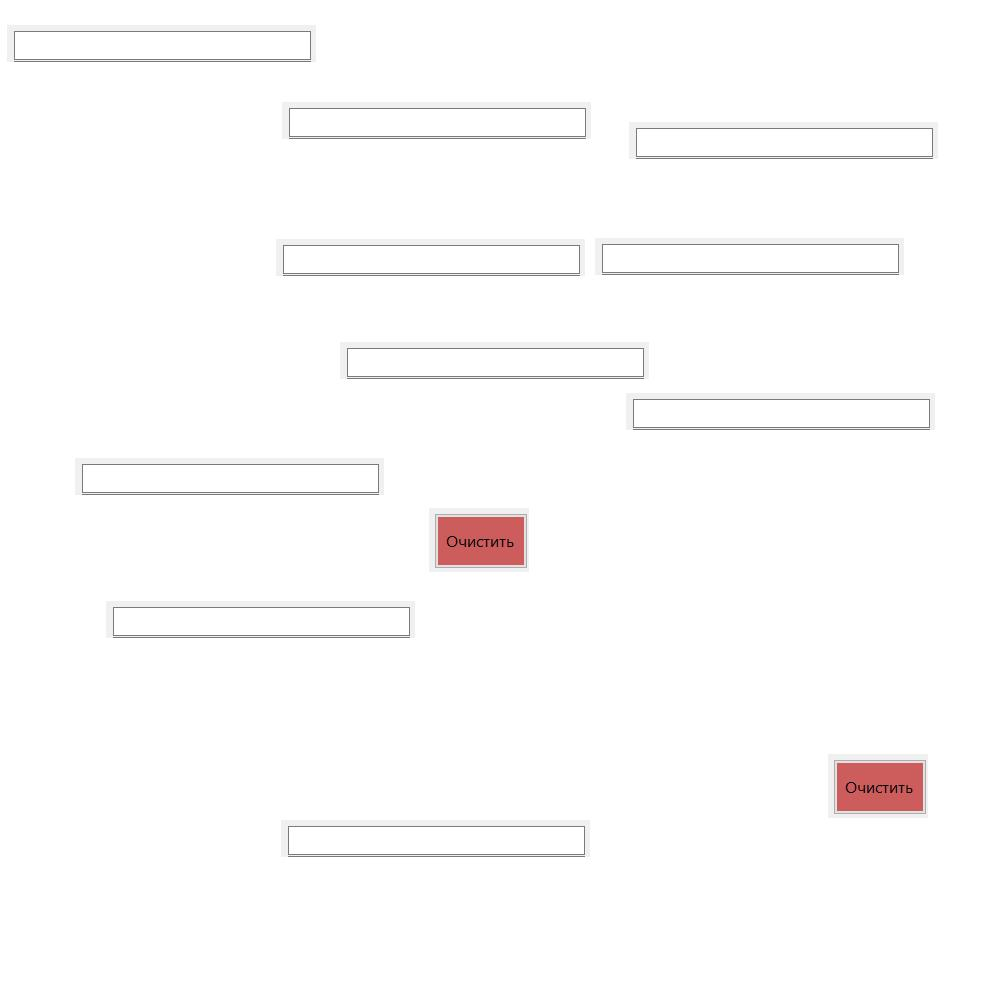Button: (429, 508, 529, 572), (828, 754, 928, 818)
EditText-: (281, 820, 590, 857), (75, 458, 384, 495), (595, 238, 904, 275), (282, 102, 591, 139), (626, 393, 935, 430), (106, 601, 415, 638), (340, 342, 649, 379), (276, 239, 585, 276), (629, 122, 938, 159), (7, 25, 316, 62)
